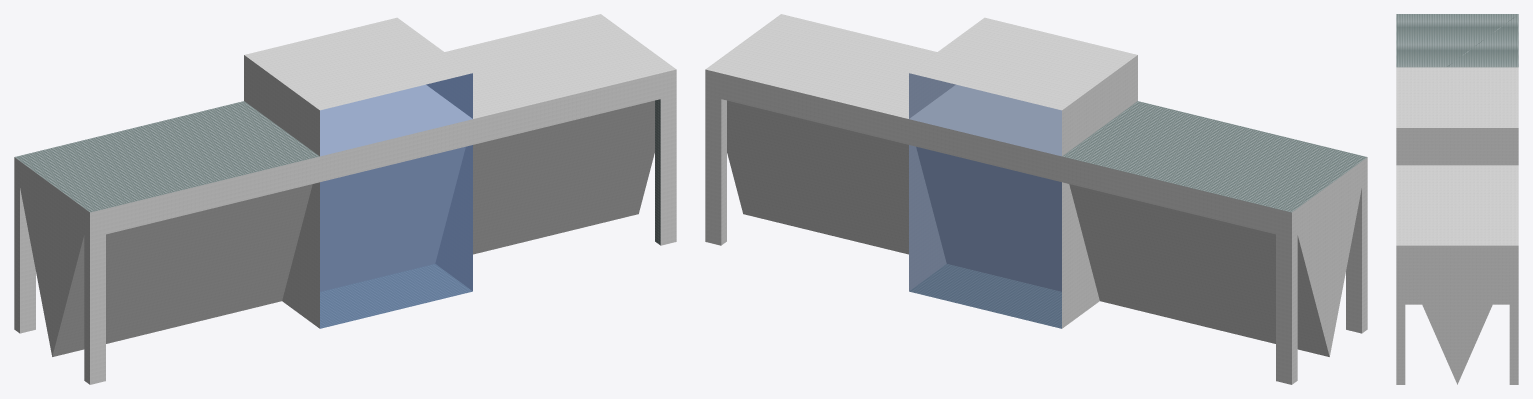
File: entertainment-building.fbx
3 views of the same model, side by side, from view 1: azimuth 30°, elevation 25°; view 2: azimuth 150°, elevation 25°; view 3: azimuth 270°, elevation 25° (orthographic). The views are drawn at different scales.
Parts seen in each view (by area): view 1: Component1; view 2: Component1; view 3: Component1.
Boxes of the visible parts, x1,y1,x2,y2 form: Component1: [14, 14, 676, 384]; Component1: [705, 14, 1367, 384]; Component1: [1396, 14, 1518, 384].
Size of the model in its own units: 135 by 48.07 by 30.24.
